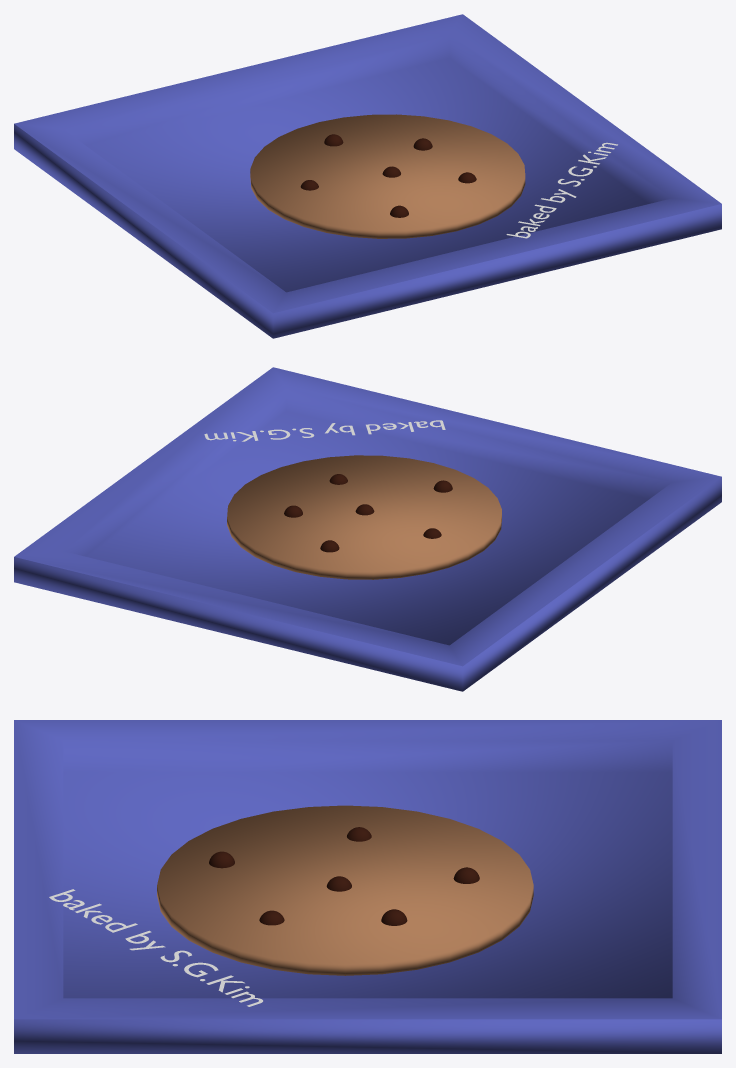
Rendered from first_cookie_by_sg_2_pieces.fbx.
3 renders of one model, top to bottom at view 1: azimuth 30°, elevation 25°; view 2: azimuth 150°, elevation 25°; view 3: azimuth 270°, elevation 25°, orthographic. The views are drawn at different scales.
Visible parts, largest first — view 1: Cube, Sphere.004; view 2: Cube, Sphere.004; view 3: Cube, Sphere.004.
Boxes of the visible parts, box(x1,y1,x2,y2) form: Cube: box(14, 14, 721, 338); Sphere.004: box(250, 114, 525, 238); Cube: box(14, 367, 721, 691); Sphere.004: box(227, 455, 501, 579); Cube: box(14, 720, 721, 1053); Sphere.004: box(157, 805, 533, 975).
Size of the model in its own units: 5563 by 320 by 5563.
